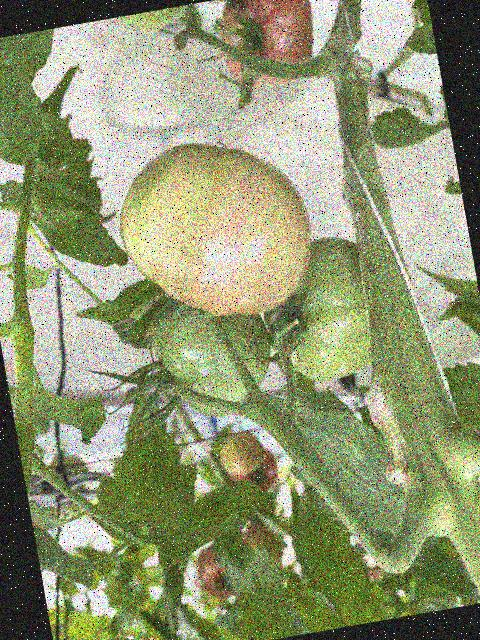b_fully_ripened: (211, 0, 325, 94)
b_green: (251, 232, 380, 389), (143, 285, 281, 426)
b_half_ripened: (106, 124, 325, 335)
